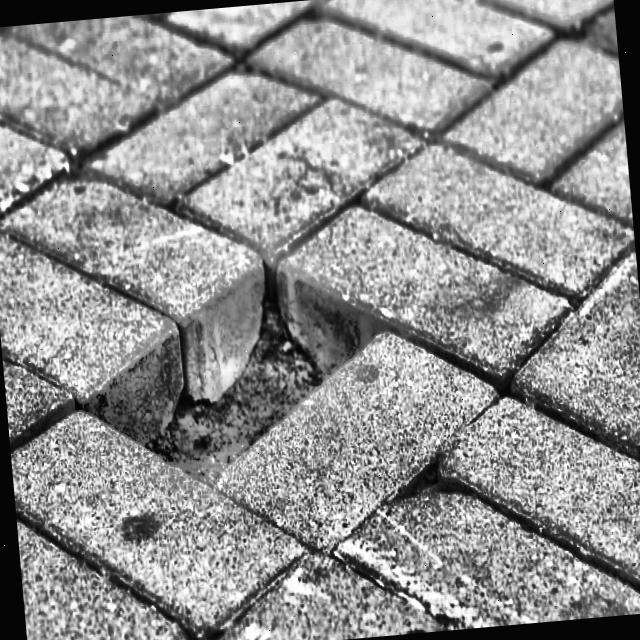pothole: (52, 248, 390, 526)
